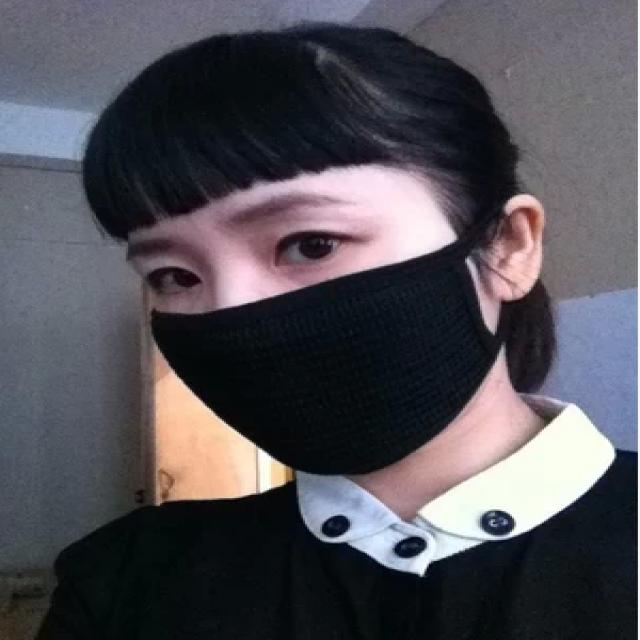mask: (130, 129, 463, 471)
